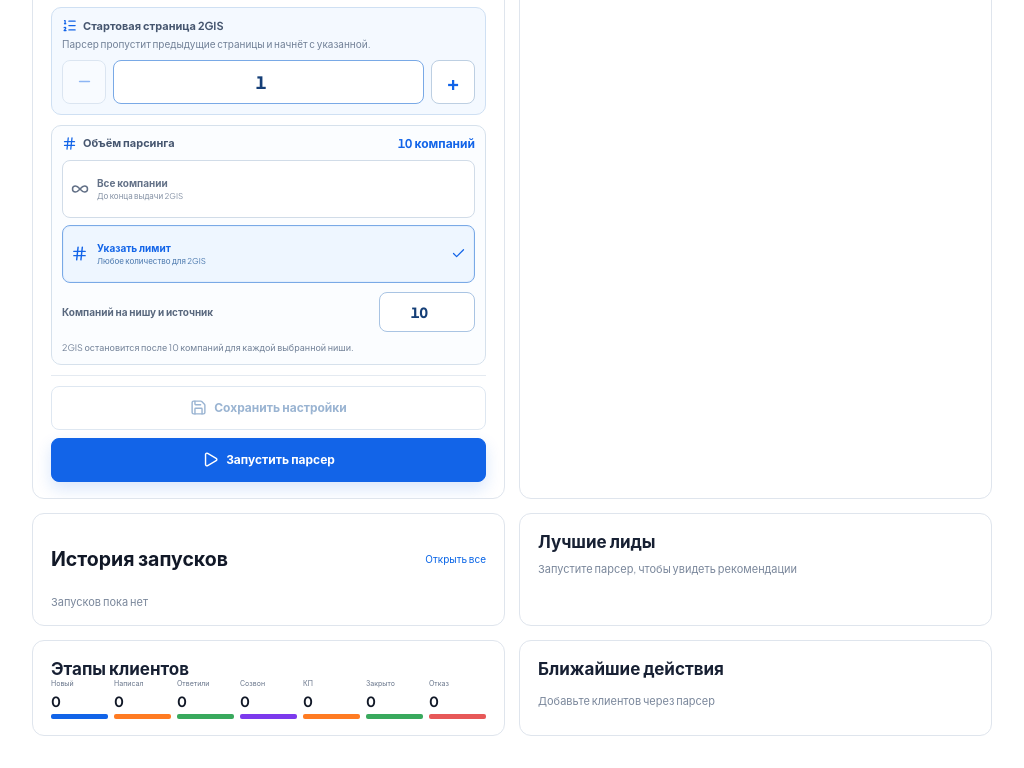
client parser controls › does not start parsing when settings cannot be saved
(page scrolled)
Click the button "Запустить парсер". click: (268, 460)
box: [51,438,486,482]
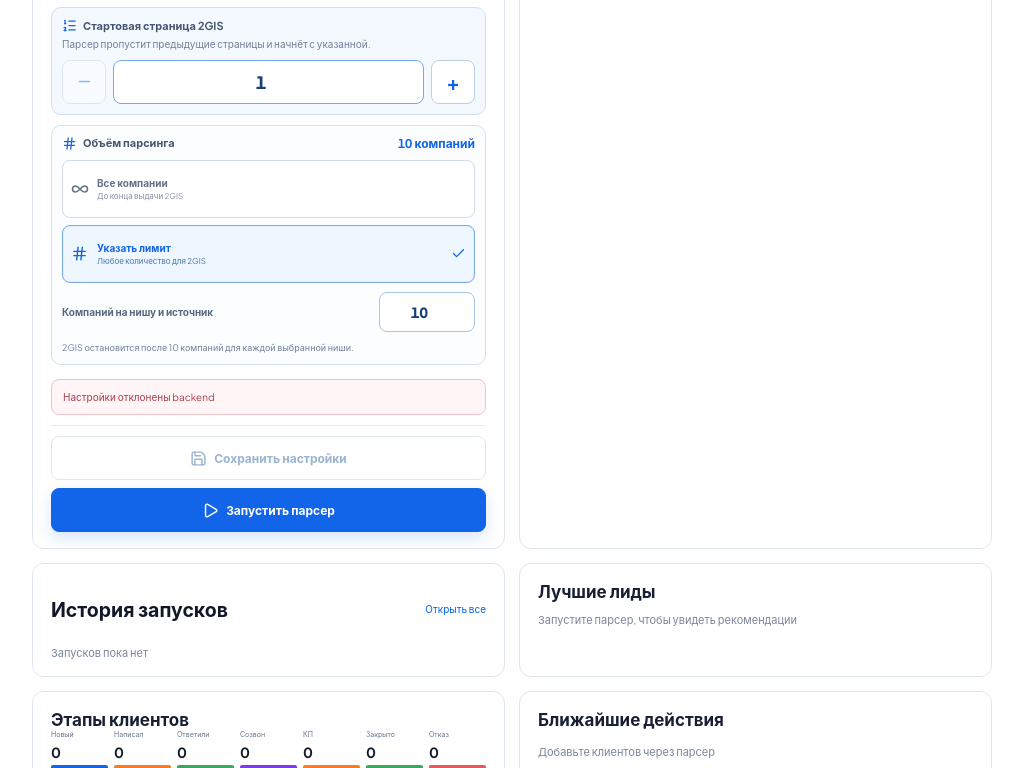
expect the message reads "Настройки отклонены backend": met, box [63,391,215,403]
